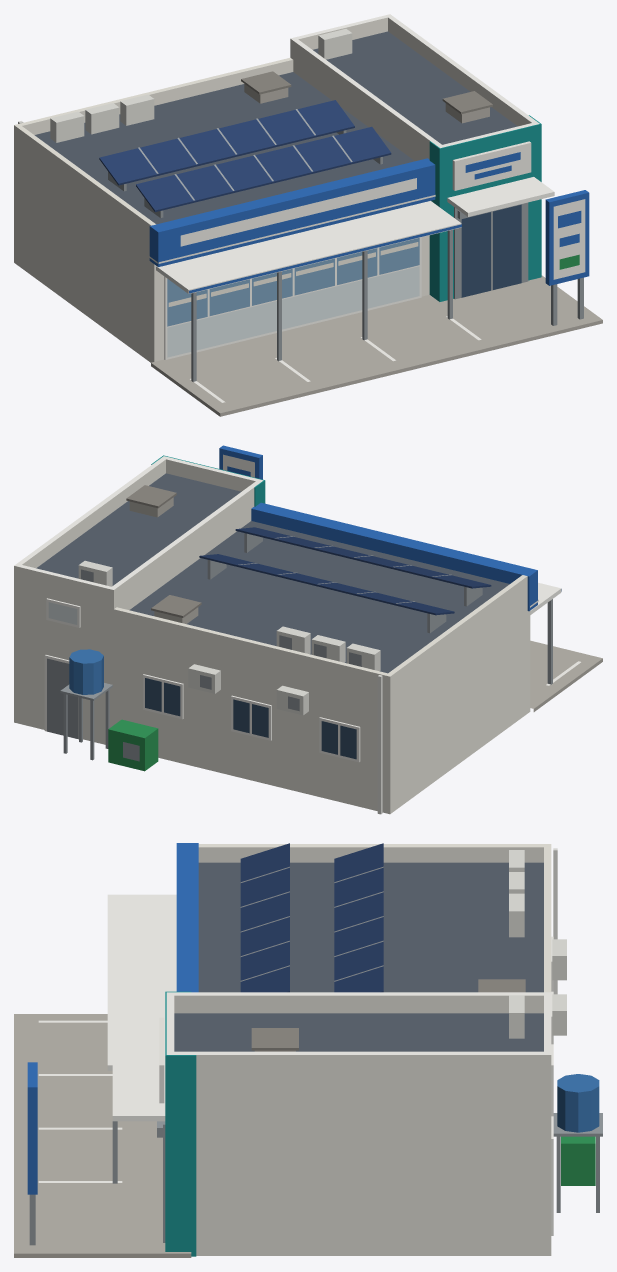
The model's file is toko_09.glb.
3 renders of one model, top to bottom at view 1: azimuth 30°, elevation 25°; view 2: azimuth 150°, elevation 25°; view 3: azimuth 270°, elevation 25°, orthographic. The views are drawn at different scales.
Parts seen in each view (by area): view 1: toko_09; view 2: toko_09; view 3: toko_09.
Part boxes in pixels (box(x1,y1,x2,y2)): toko_09: box(14, 14, 602, 416); toko_09: box(14, 445, 602, 814); toko_09: box(14, 843, 602, 1257).
Size of the model in its own units: 11.5 by 4.68 by 11.95.
